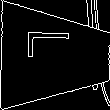L_E: (29, 40, 82, 72)
